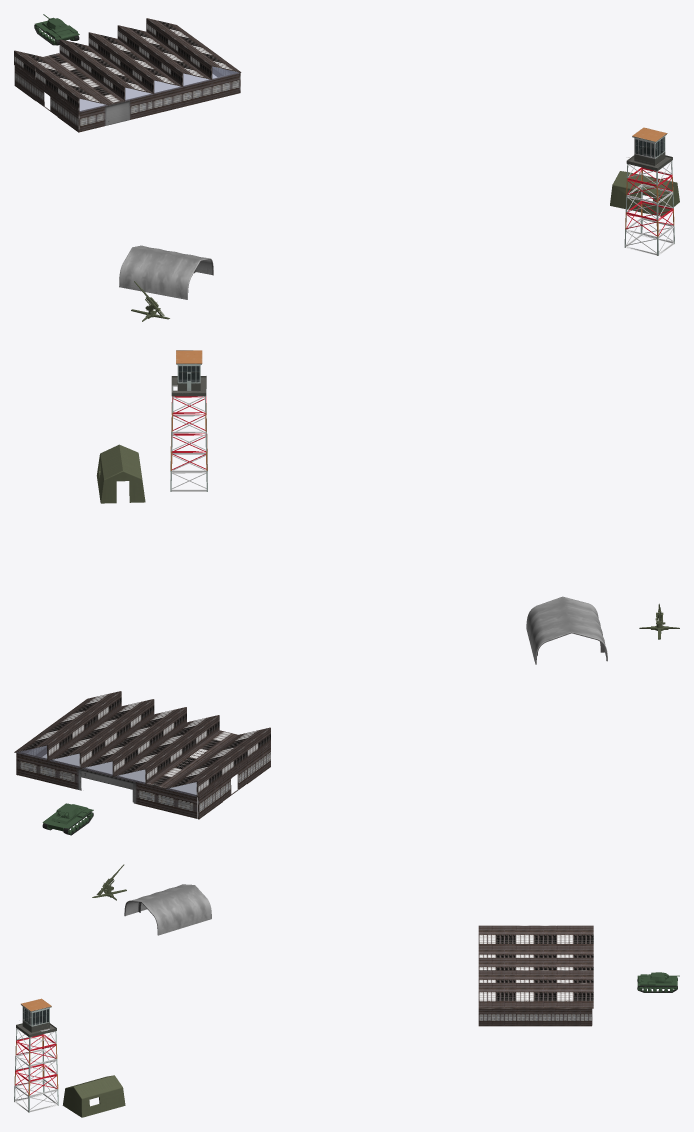
Rendered from TractorFactory.glb.
3 renders of one model, top to bottom at view 1: azimuth 30°, elevation 25°; view 2: azimuth 150°, elevation 25°; view 3: azimuth 270°, elevation 25°, orthographic. The views are drawn at different scales.
Visible parts, largest first — view 1: Factory002_11 - Default_0, defaultMaterial.263, clothBuilding001_Material #67_0, Box001_Main Tent_0; view 2: Factory002_11 - Default_0, defaultMaterial.263, clothBuilding001_Material #67_0, Box001_Main Tent_0; view 3: Factory002_11 - Default_0, defaultMaterial.263, clothBuilding001_Material #67_0, Box001_Main Tent_0.
Boxes of the visible parts, bbox=[...] form: Factory002_11 - Default_0: bbox=[14, 14, 241, 132]; defaultMaterial.263: bbox=[624, 127, 674, 255]; clothBuilding001_Material #67_0: bbox=[119, 245, 213, 299]; Box001_Main Tent_0: bbox=[610, 171, 679, 216]; Factory002_11 - Default_0: bbox=[14, 691, 270, 835]; defaultMaterial.263: bbox=[170, 350, 207, 491]; clothBuilding001_Material #67_0: bbox=[526, 596, 607, 664]; Box001_Main Tent_0: bbox=[96, 444, 145, 503]; Factory002_11 - Default_0: bbox=[478, 925, 679, 1026]; defaultMaterial.263: bbox=[14, 998, 58, 1112]; clothBuilding001_Material #67_0: bbox=[124, 884, 211, 935]; Box001_Main Tent_0: bbox=[62, 1075, 125, 1117].
Size of the model in its own units: 206 by 41.82 by 254.
17 materials, 10 textured.
